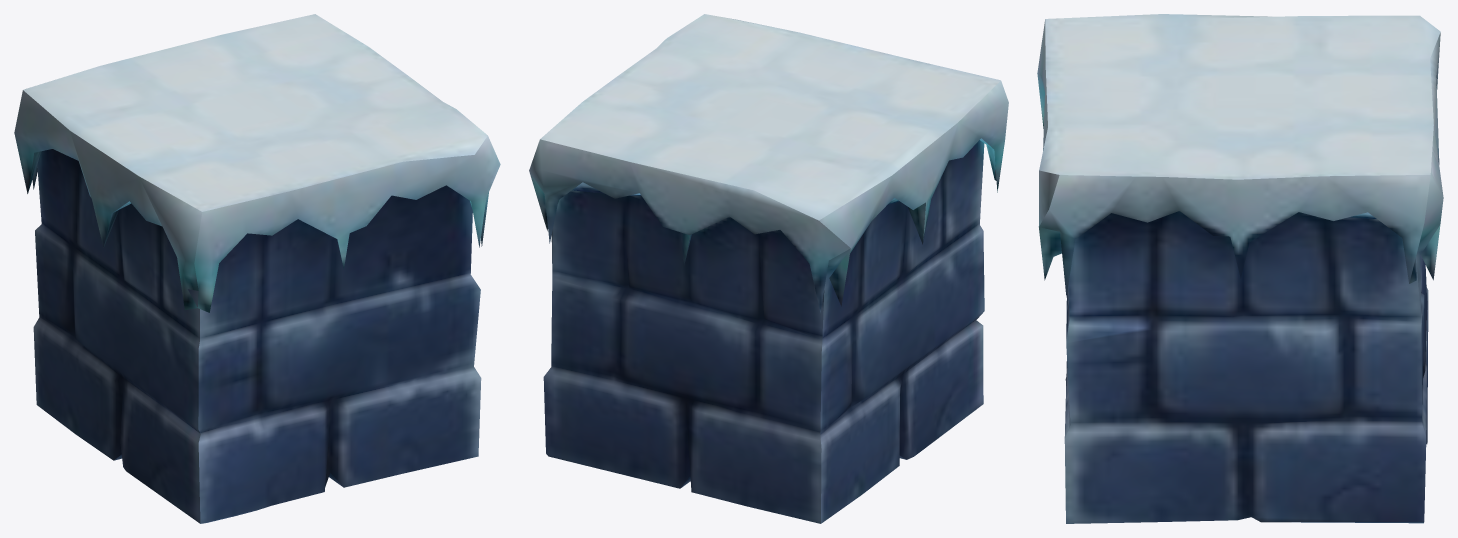
Rendered from b_givre_mur_1.glb.
3 views of the same model, side by side, from view 1: azimuth 30°, elevation 25°; view 2: azimuth 150°, elevation 25°; view 3: azimuth 270°, elevation 25° (orthographic). The views are drawn at different scales.
Parts seen in each view (by area): view 1: geometry_0; view 2: geometry_0; view 3: geometry_0.
Part boxes in pixels (<box>): geometry_0: <box>14,14,500,523</box>; geometry_0: <box>529,14,1008,523</box>; geometry_0: <box>1037,14,1443,523</box>.
Bounding box in the file's own units: 1 × 0.9613 × 1.
Materials: 1 (1 with a texture image).
